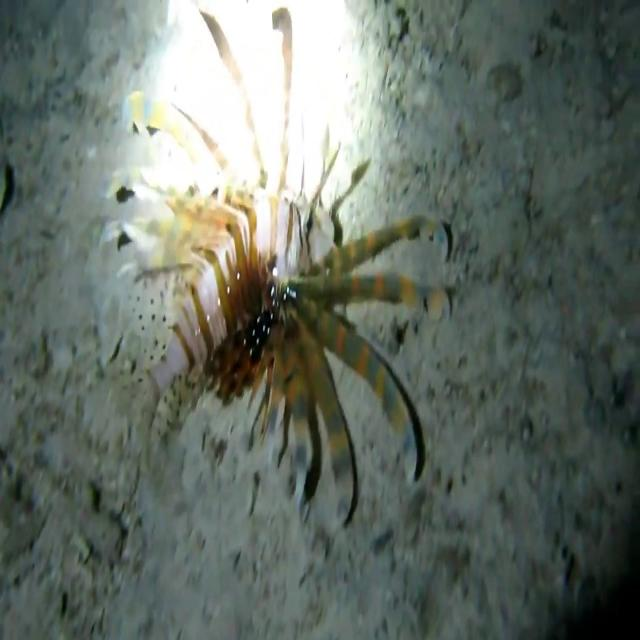Aslan Baligi: (100, 0, 446, 526)
